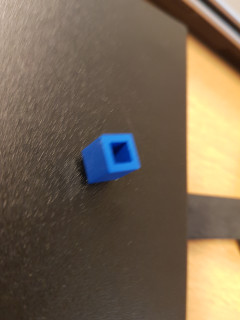1x1 blue: (79, 128, 144, 188)
